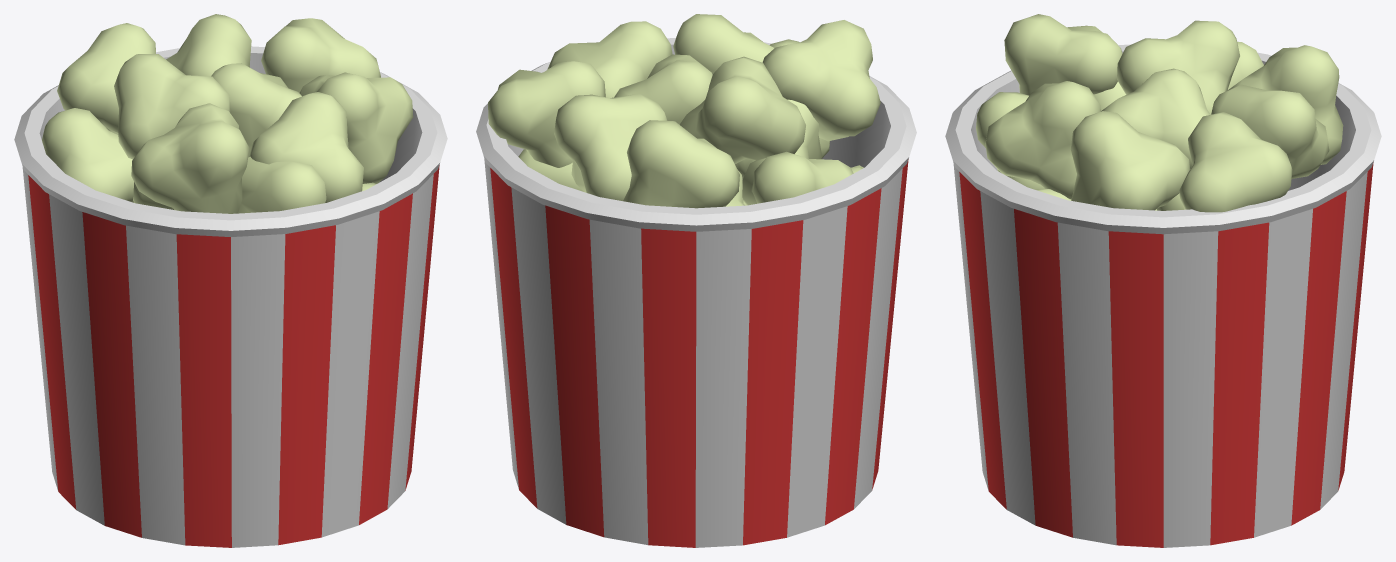
File: popcornBucket.fbx
3 views of the same model, side by side, from view 1: azimuth 30°, elevation 25°; view 2: azimuth 150°, elevation 25°; view 3: azimuth 270°, elevation 25° (orthographic).
Parts seen in each view (by area): view 1: Popcorn Bucket, Popcorn; view 2: Popcorn Bucket, Popcorn; view 3: Popcorn Bucket, Popcorn.
Part boxes in pixels (<box>): Popcorn Bucket: <box>14,46,447,547</box>; Popcorn: <box>42,14,413,213</box>; Popcorn Bucket: <box>476,38,916,547</box>; Popcorn: <box>488,14,880,208</box>; Popcorn Bucket: <box>945,44,1381,547</box>; Popcorn: <box>976,14,1343,212</box>.
Size of the model in its own units: 29.17 by 29.17 by 30.87.
